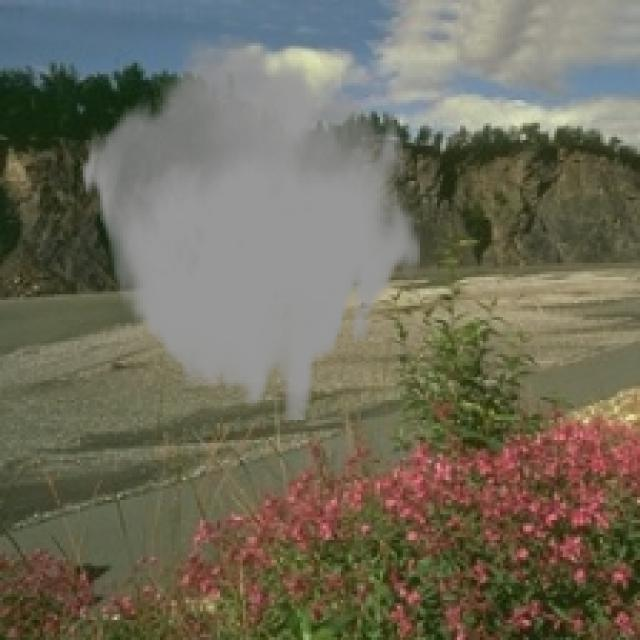smoke: (80, 34, 423, 420)
